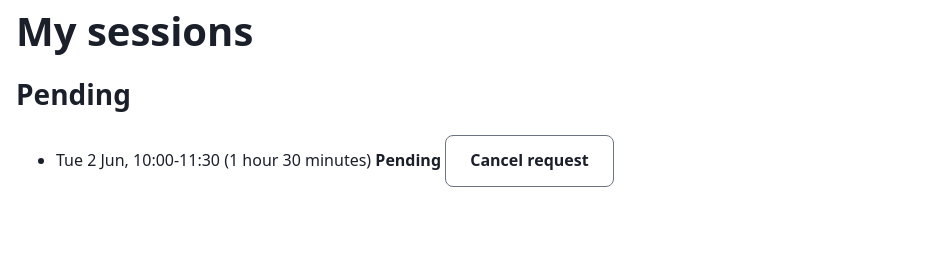
it: MySessionsPage › shows a stable error when cancelling fails
Step 1. Click the button "Cancel request" → coordinates (529, 161), box [445, 135, 614, 187]
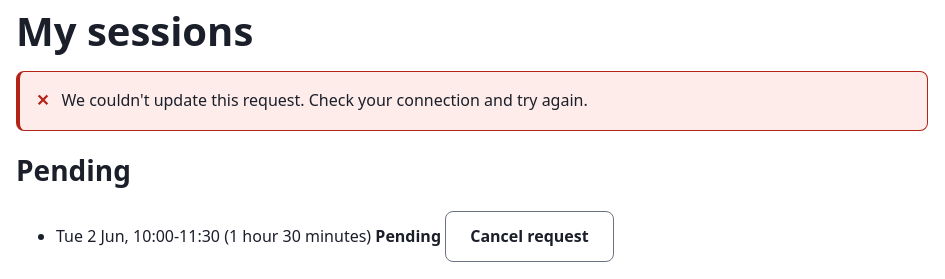
Now the text "couldn.t update this request" is shown, box [61, 89, 588, 111]
